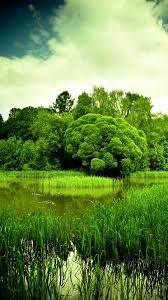forest: (10, 97, 166, 300)
sky: (5, 4, 162, 94)
tree: (3, 80, 157, 174)
